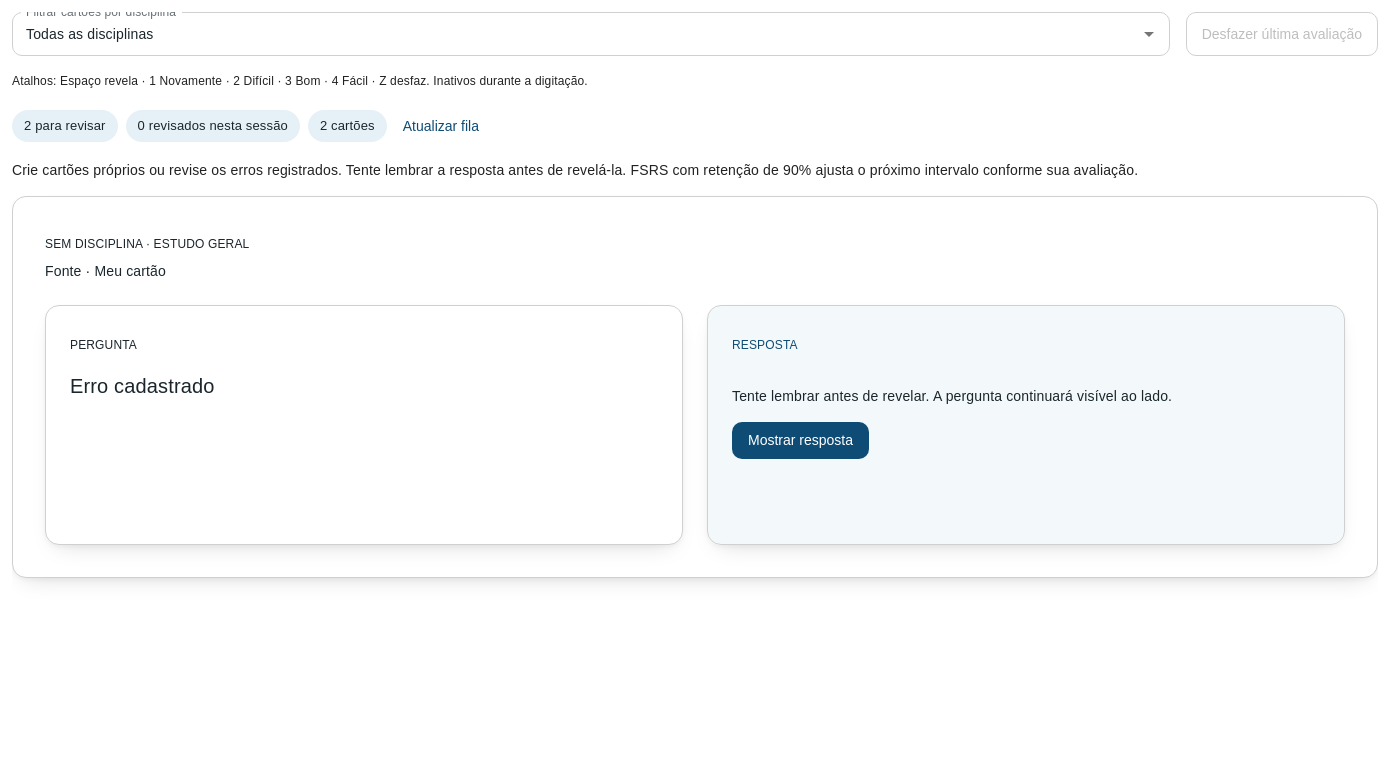
Test case: keeps error and manual cards with identical ids independent when rating and undoing
The width and height of the screenshot is (1390, 780).
Expected: the heading "Erro cadastrado" is shown, top-left (70, 375), bottom-right (214, 397)
Click the button "Mostrar resposta". click: (800, 441)
box: top-left (732, 422), bottom-right (869, 459)
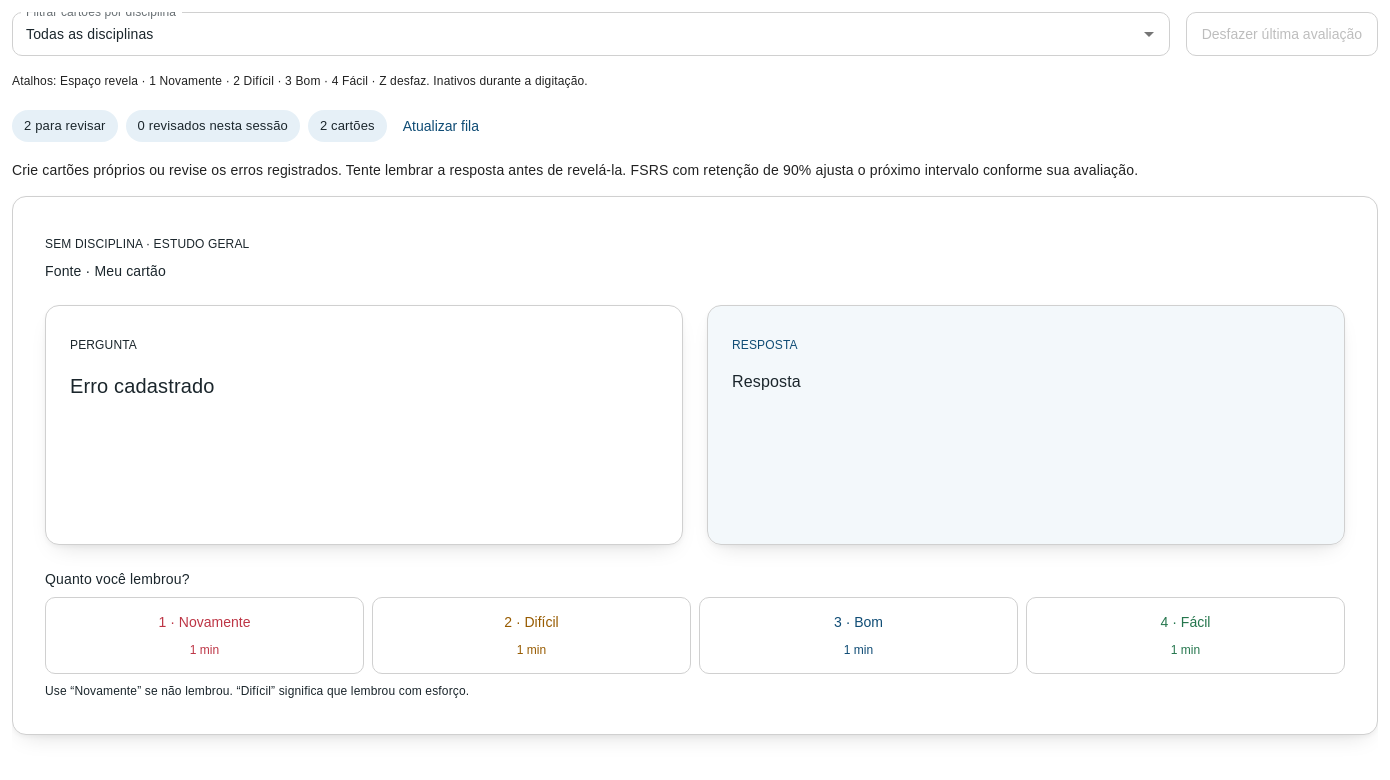
Click the button "3 · Bom 1 min". click: (838, 622)
box: top-left (699, 597), bottom-right (1018, 674)
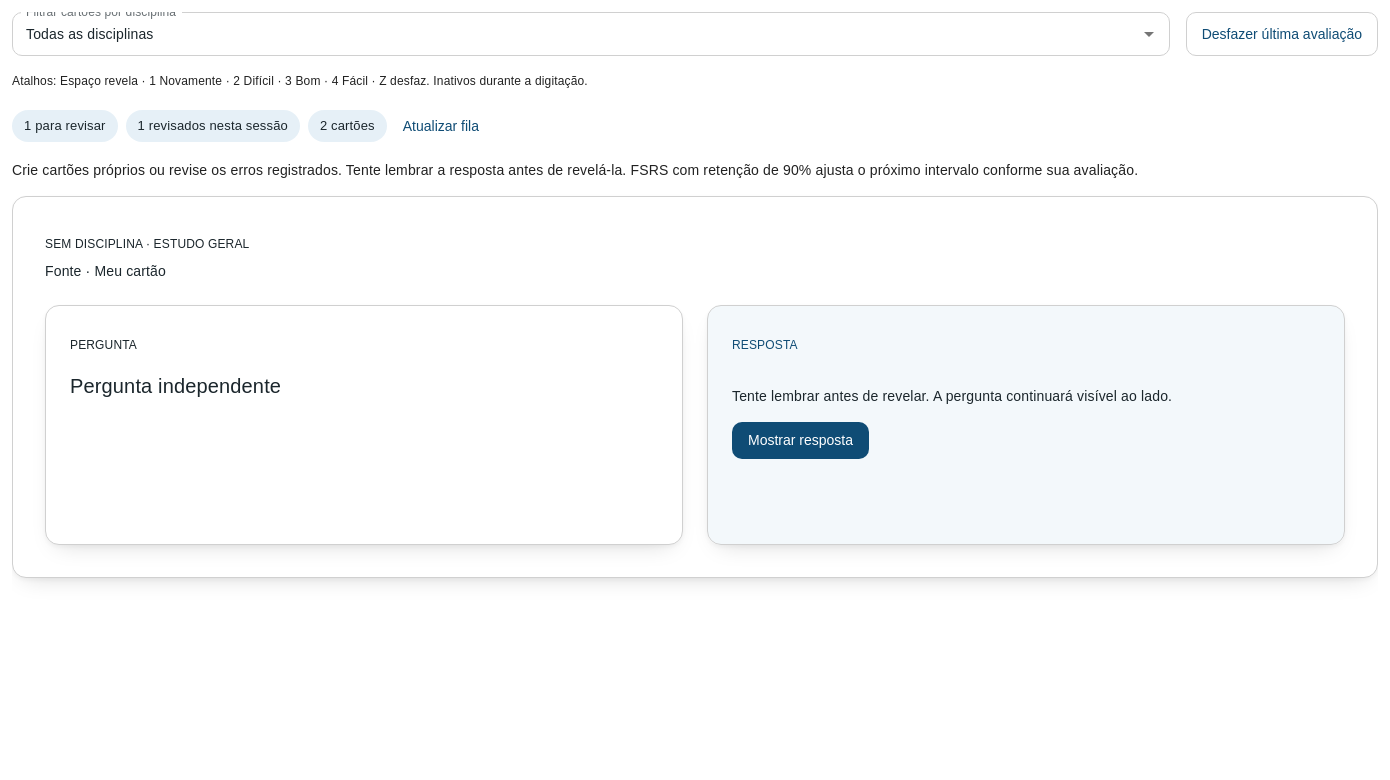
Expected: the heading "Pergunta independente" is shown, top-left (70, 375), bottom-right (281, 397)
Click the button "Mostrar resposta". click: (800, 441)
box: top-left (732, 422), bottom-right (869, 459)
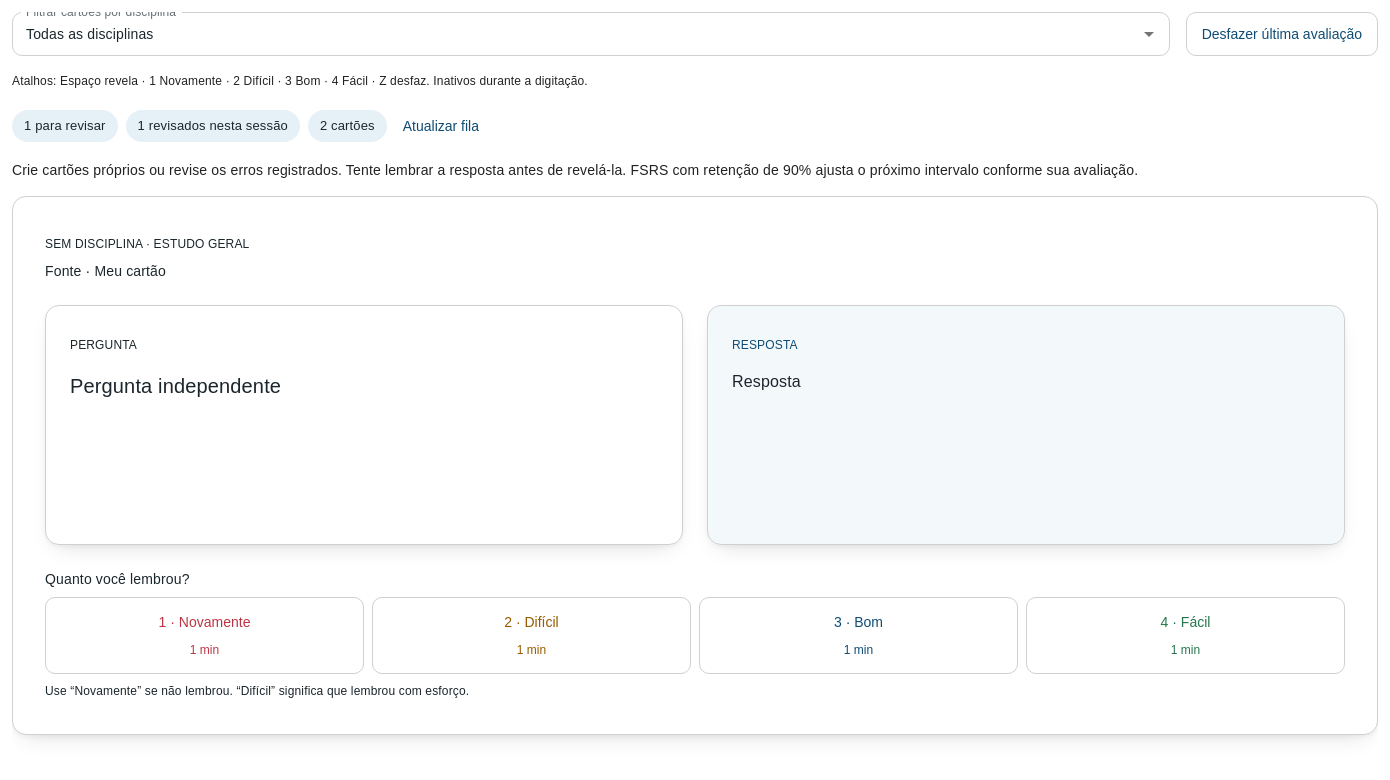
Click the button "3 · Bom 1 min". click: (838, 622)
box: top-left (699, 597), bottom-right (1018, 674)
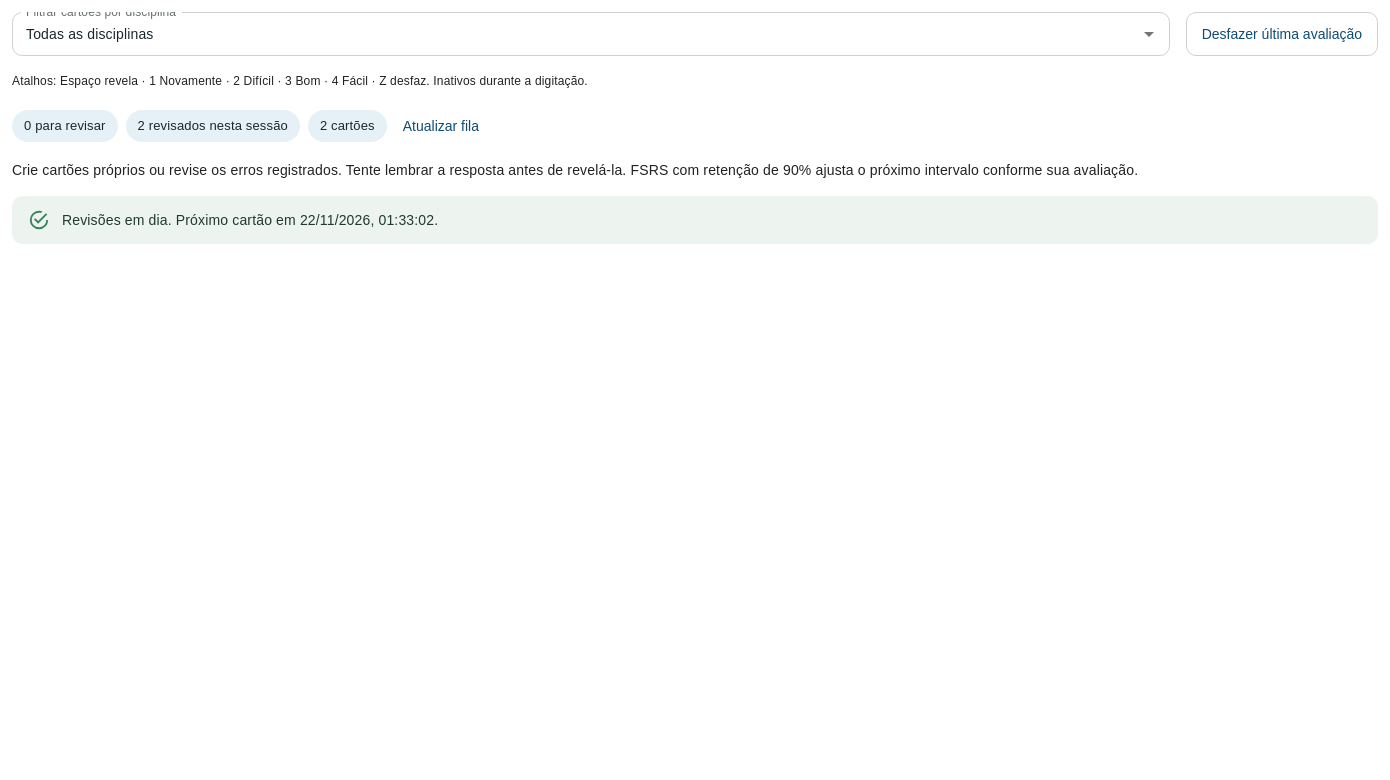
Expected: the text "Revisões em dia. Próximo cartão em 22/11/2026, 01:33:02." is shown, top-left (62, 212), bottom-right (438, 228)
Click the button "Desfazer última avaliação". click: (1282, 34)
box: top-left (1186, 12), bottom-right (1378, 56)
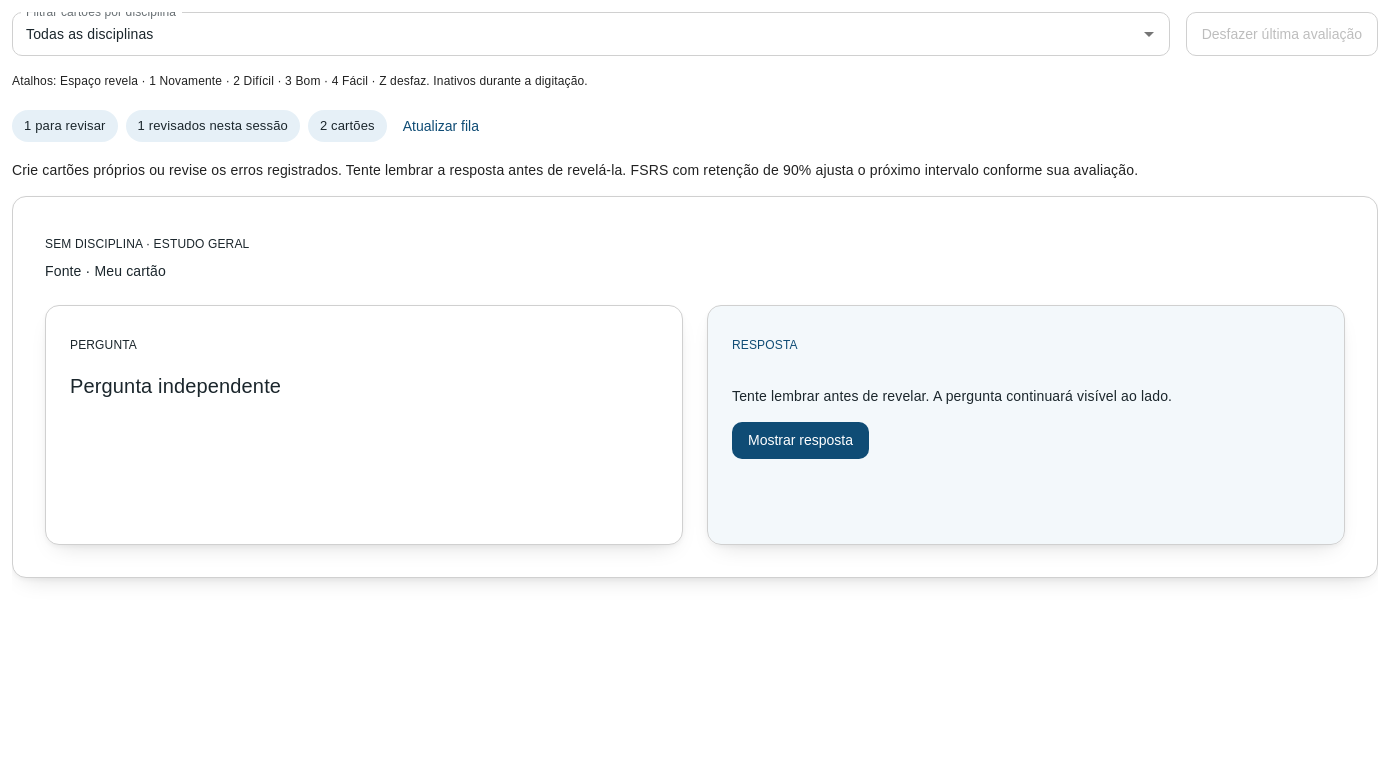
Expected: the heading "Pergunta independente" is shown, top-left (70, 375), bottom-right (281, 397)
Expected: the text "1 para revisar" is shown, top-left (24, 118), bottom-right (106, 133)
